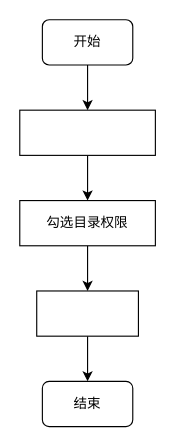
This 175x446 diagram has some shape labels left out. Each missing label, with the centre of its shape:
保存: (87,313)
展示所有目录权限: (87,132)
